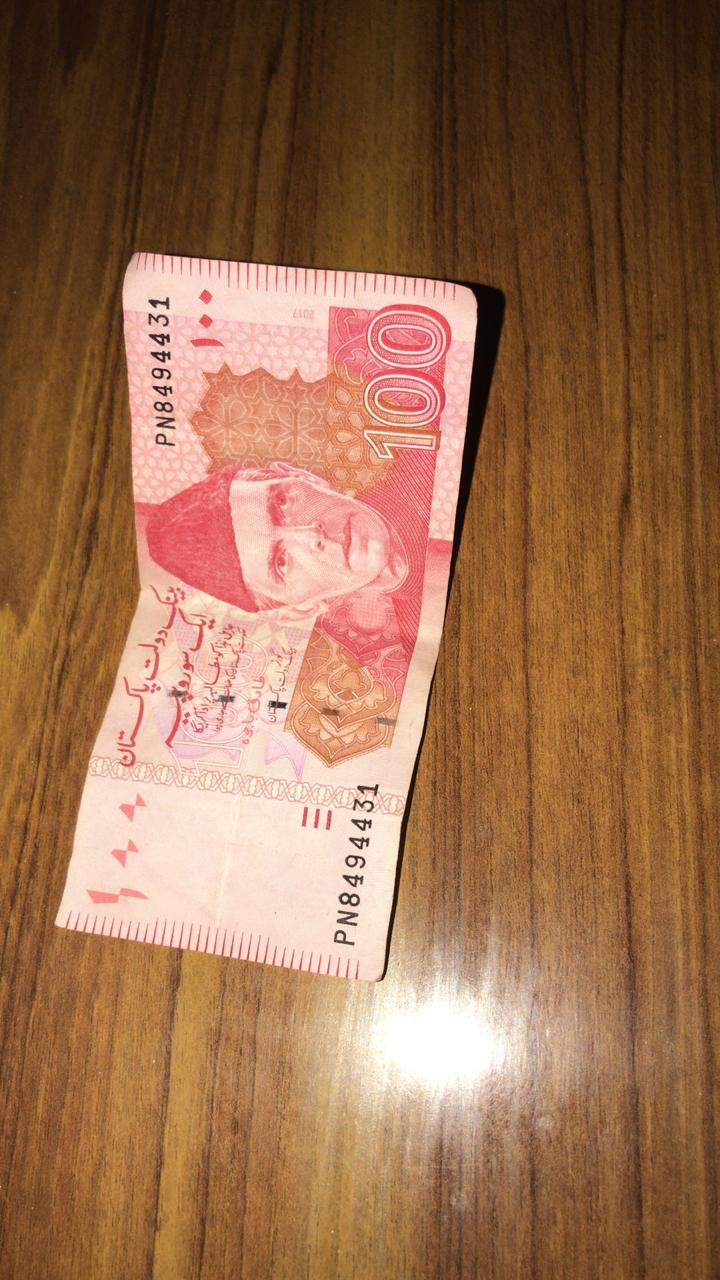100 rupee: (25, 229, 523, 983)
